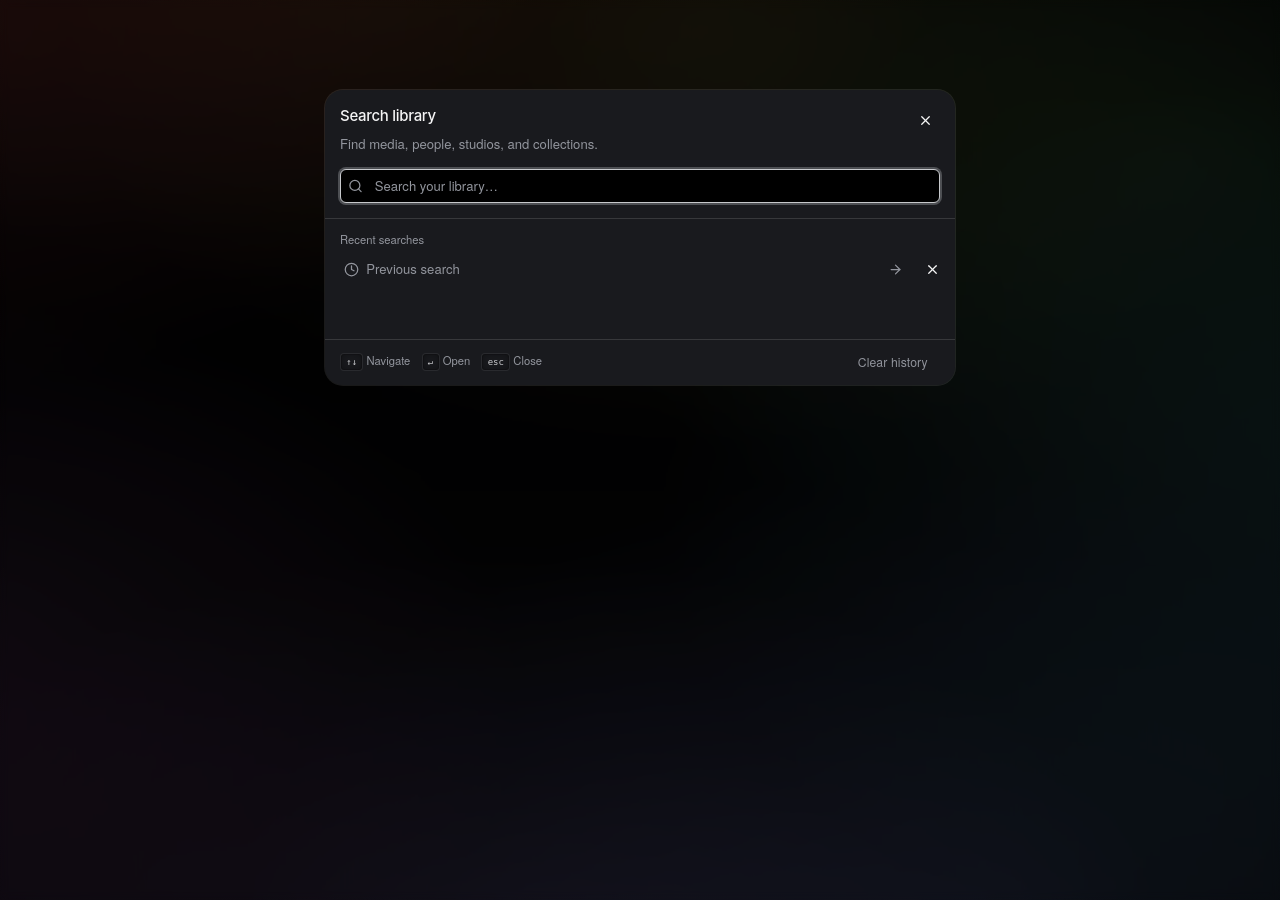
Test: global search palette › distinguishes a failed request from an empty result and allows retry
Type "film" into the dropdown named "Search library".
click(640, 186); type("film")  # box [340,169,940,203]
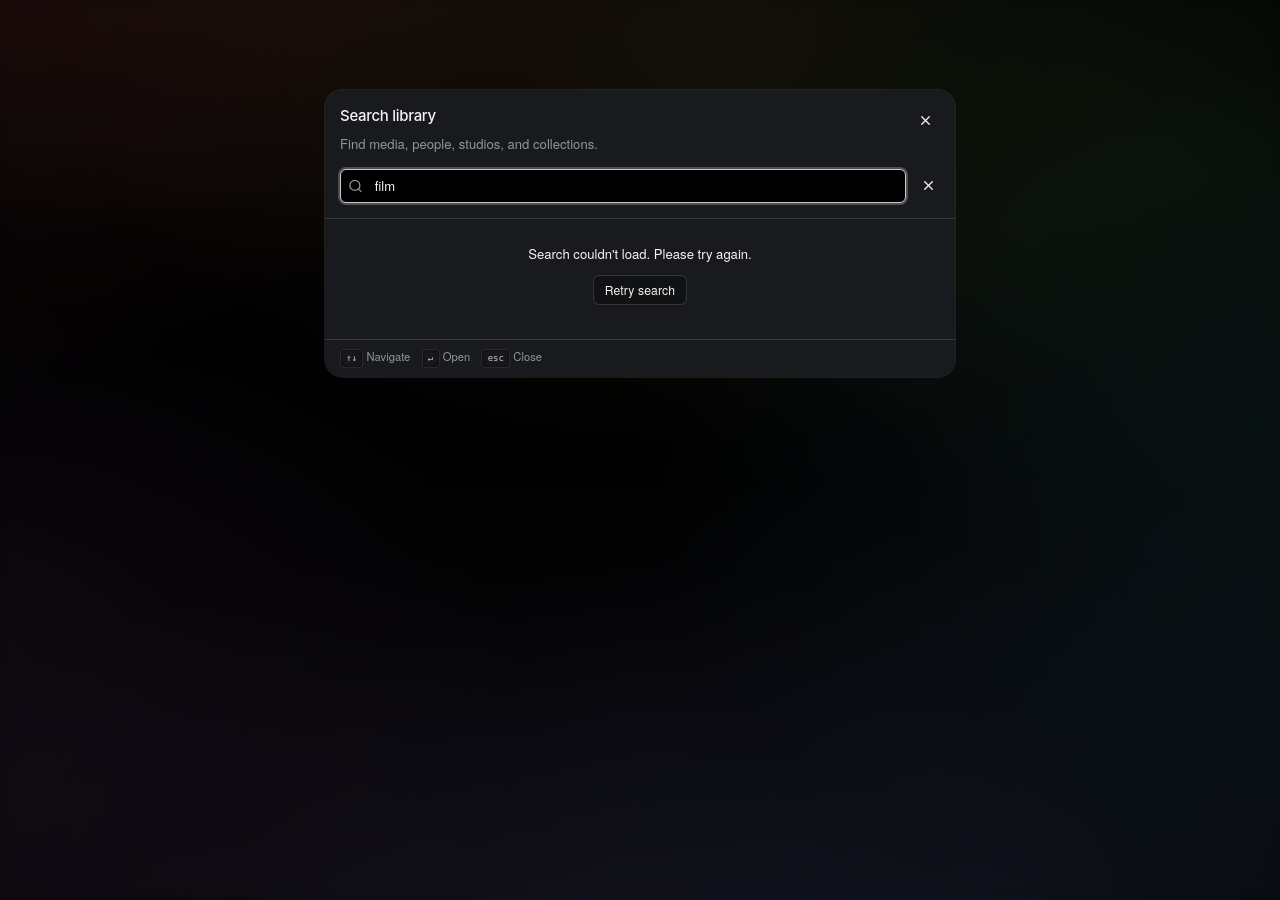
Check: the message shows "Search couldn't load", box [528,244,752,263]
Click the button "Retry search".
click(640, 290)  # box [592,275,688,305]
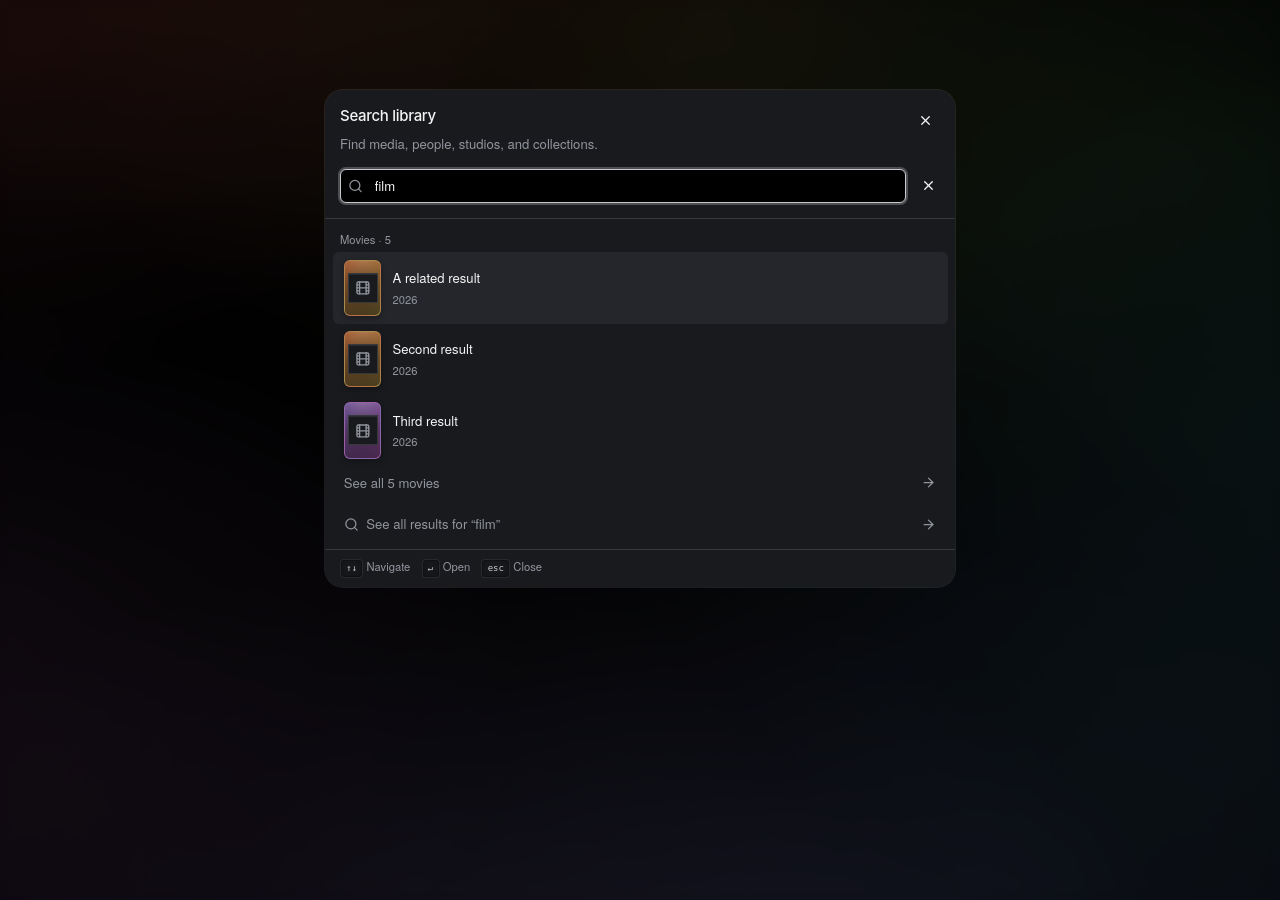
Check: the option "A related result 2026" is shown, box [332,252,948,324]
